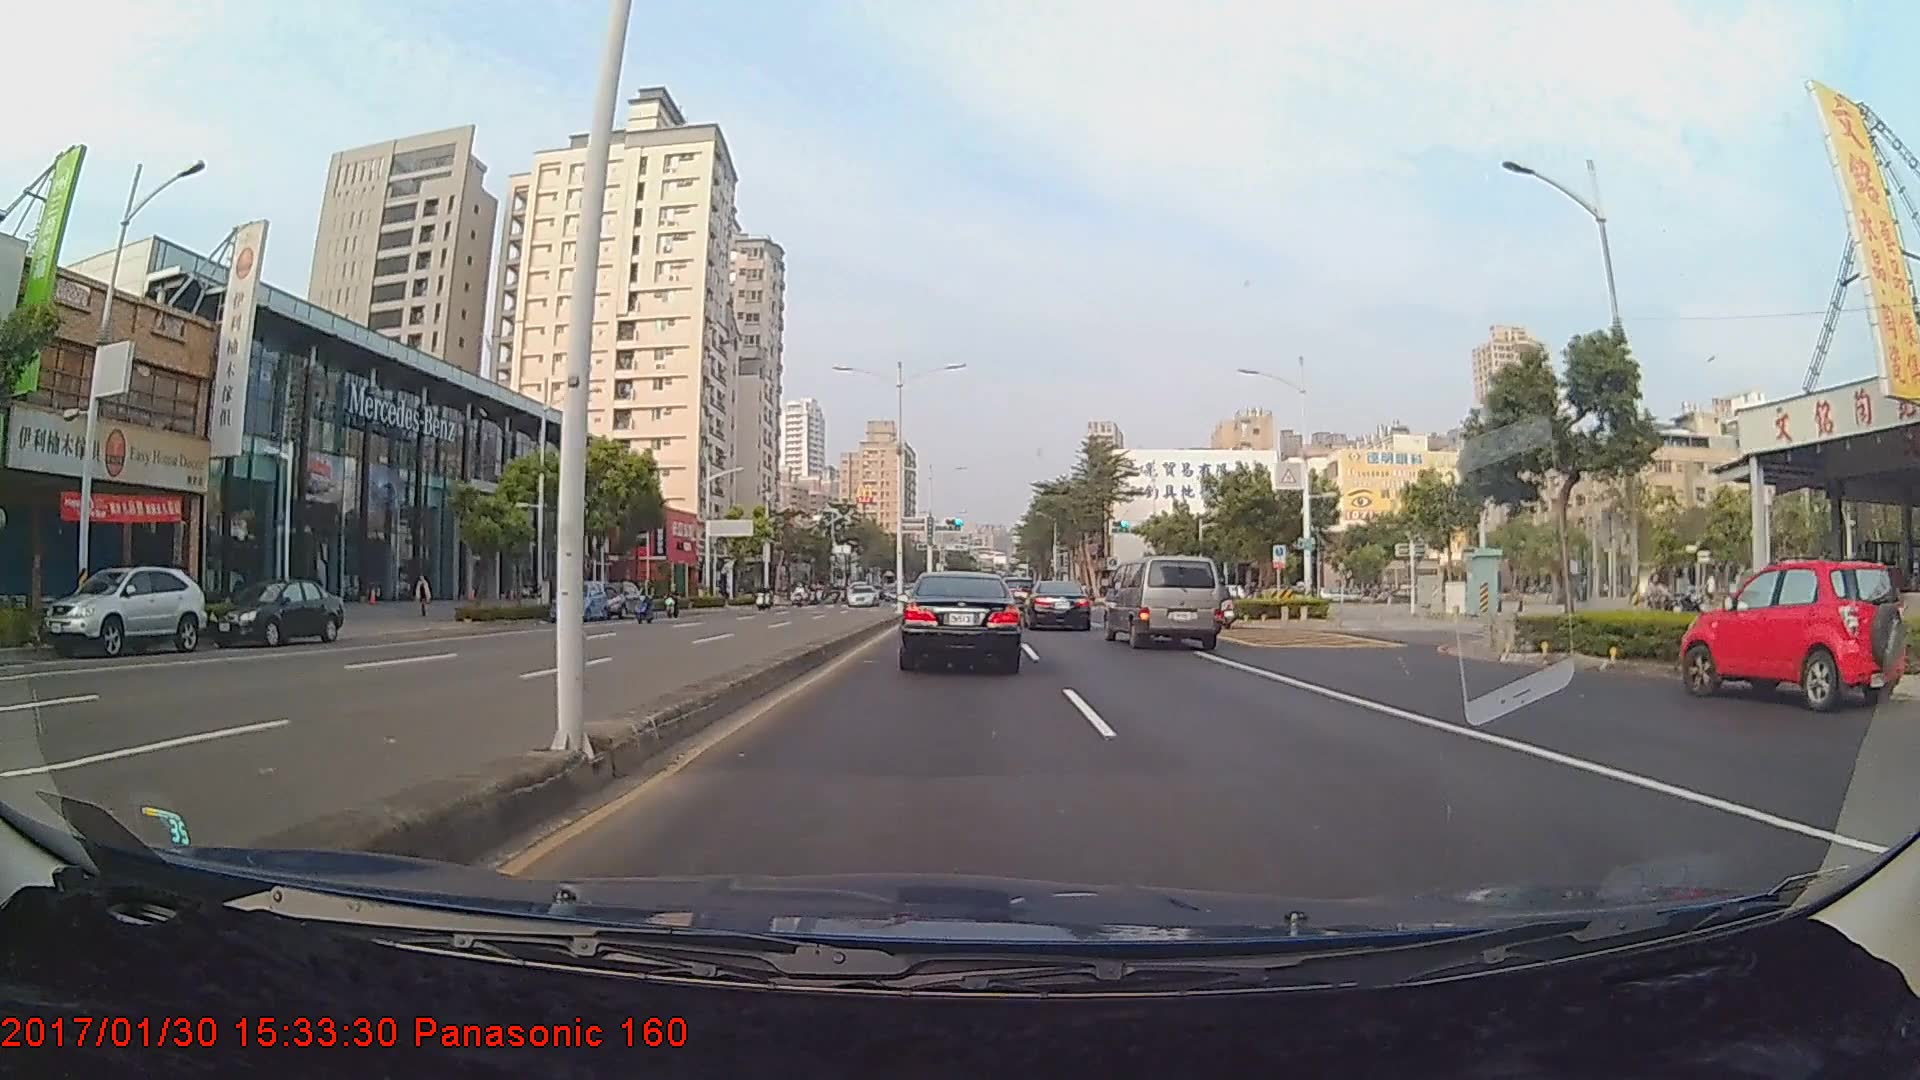pedestrian: (412, 573, 435, 620)
rider: (630, 576, 663, 625)
vehicle: (1676, 556, 1905, 711), (40, 564, 204, 658), (899, 570, 1021, 671), (1105, 554, 1222, 650), (207, 577, 345, 647), (1021, 579, 1093, 632), (547, 580, 607, 624), (594, 579, 647, 620), (846, 584, 880, 607)
